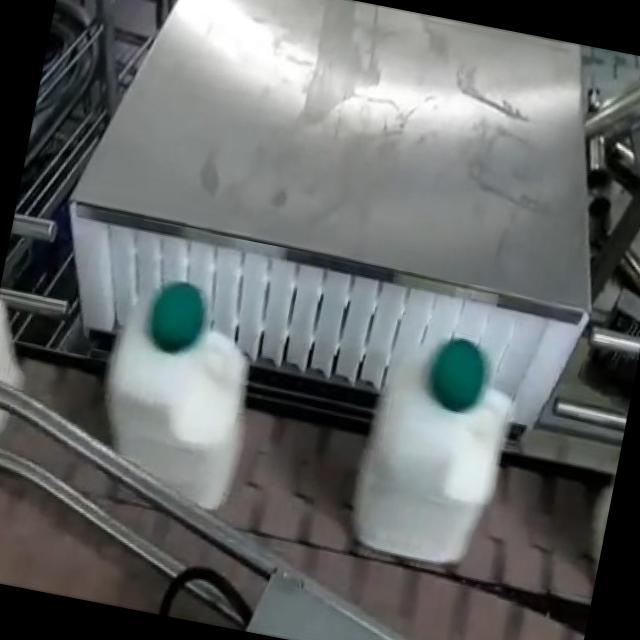milk: (336, 321, 531, 588), (84, 269, 284, 527)
